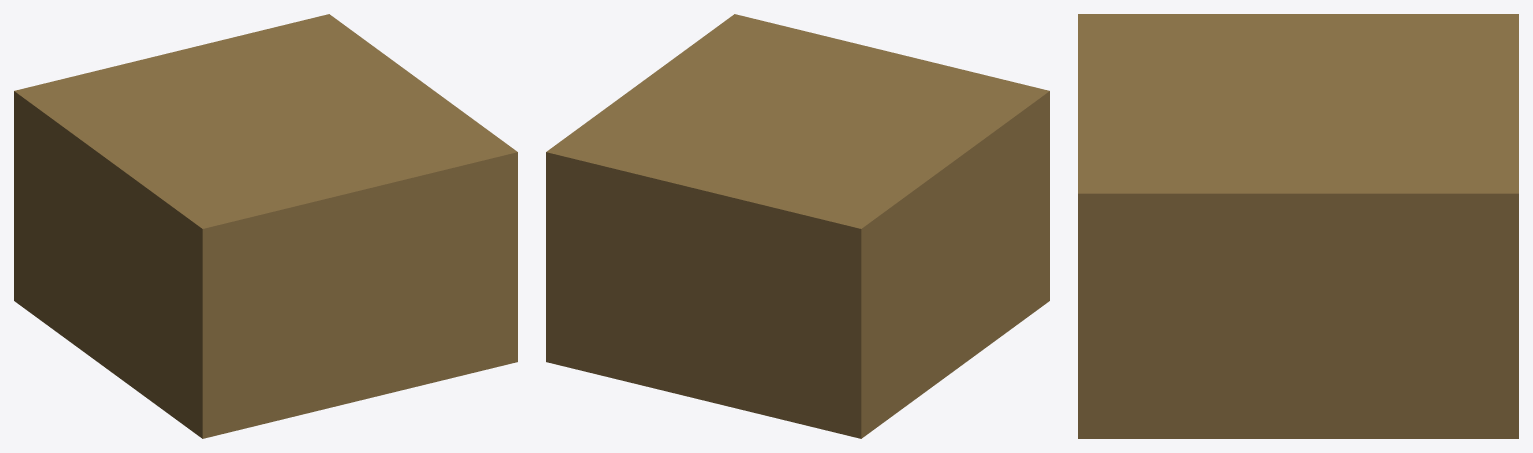
The model's file is prop_campfire_lod2.glb.
3 renders of one model, left to right at view 1: azimuth 30°, elevation 25°; view 2: azimuth 150°, elevation 25°; view 3: azimuth 270°, elevation 25°, orthographic. The views are drawn at different scales.
Parts seen in each view (by area): view 1: prop_campfire_lod2; view 2: prop_campfire_lod2; view 3: prop_campfire_lod2.
Boxes of the visible parts, x1,y1,x2,y2 form: prop_campfire_lod2: (14, 14, 517, 438); prop_campfire_lod2: (546, 14, 1049, 438); prop_campfire_lod2: (1078, 14, 1518, 438).
Bounding box in the file's own units: 1.1 × 0.7 × 1.14.
